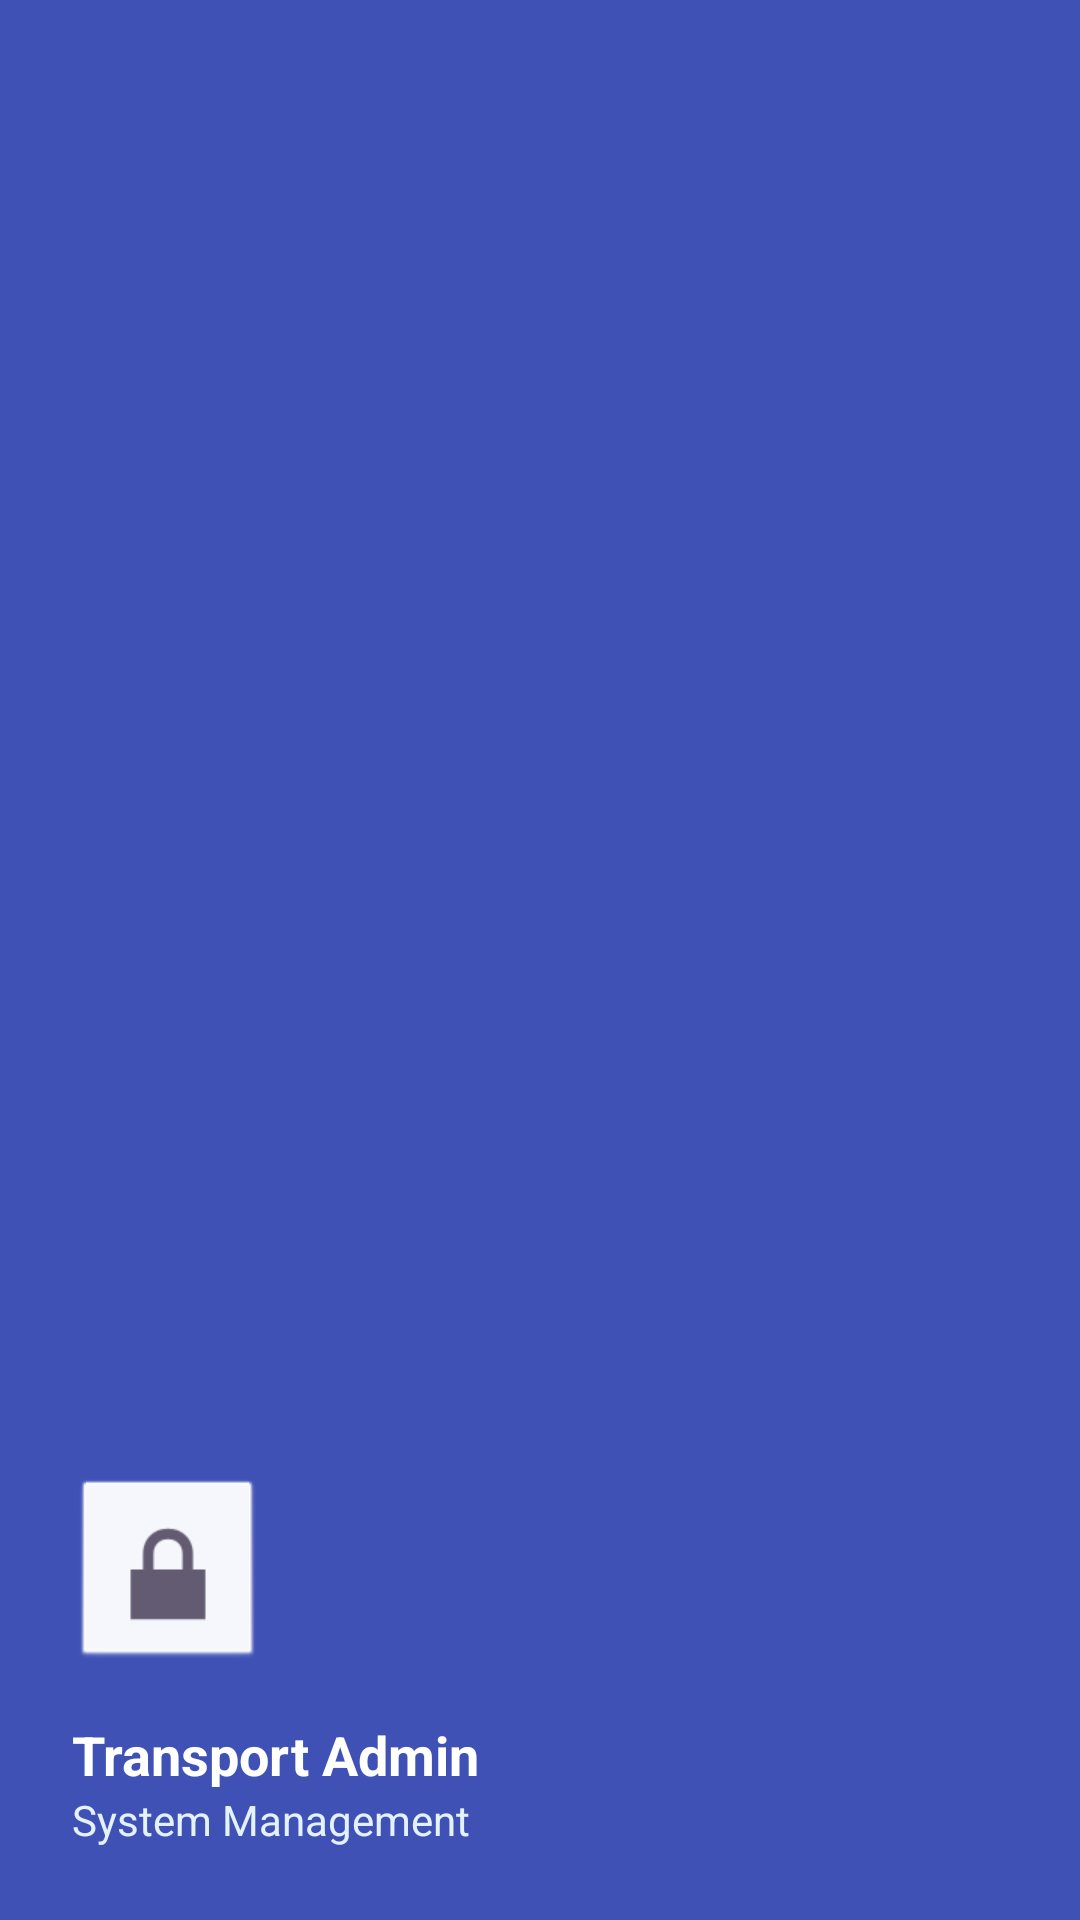

Where icons sit on this 1080*1920 app screen, as [x1,y1,x2,y2]:
lock: [81,1481,254,1656]
